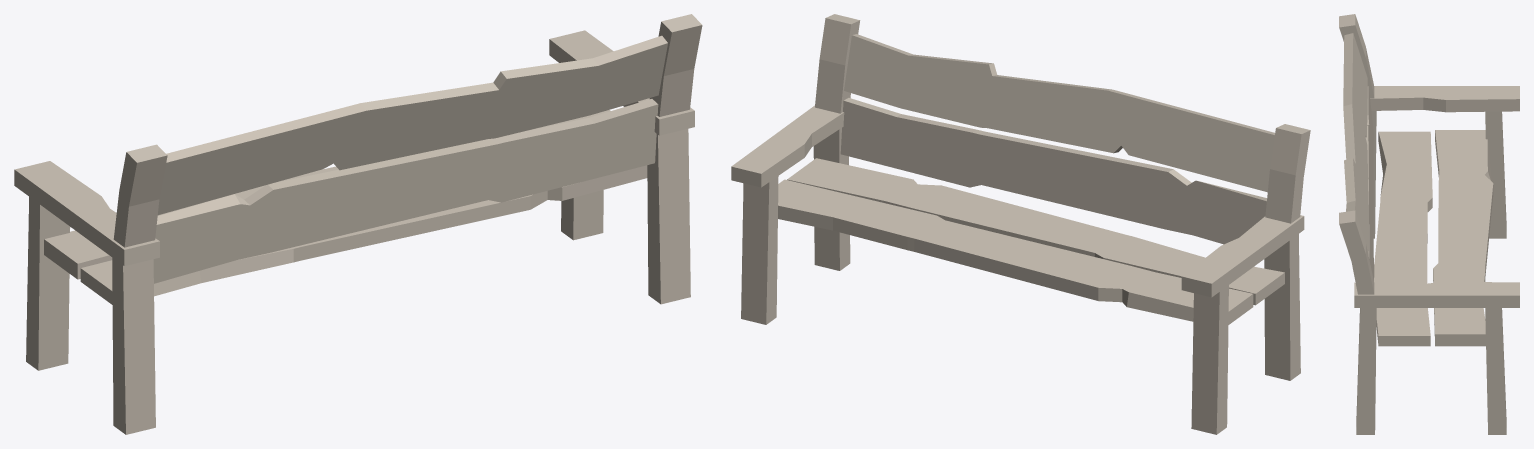
File: boardbench.glb
The picture shows the model from 3 angles, left to right: view 1: azimuth 30°, elevation 25°; view 2: azimuth 150°, elevation 25°; view 3: azimuth 270°, elevation 25°; orthographic projection. The views are drawn at different scales.
Visible parts, largest first — view 1: Bench_1; view 2: Bench_1; view 3: Bench_1.
Part boxes in pixels (x1,y1,x2,y2): Bench_1: (14,14,702,434); Bench_1: (731,14,1310,434); Bench_1: (1339,14,1519,434).
Bounding box in the file's own units: 1.8 × 0.8548 × 0.6562.
